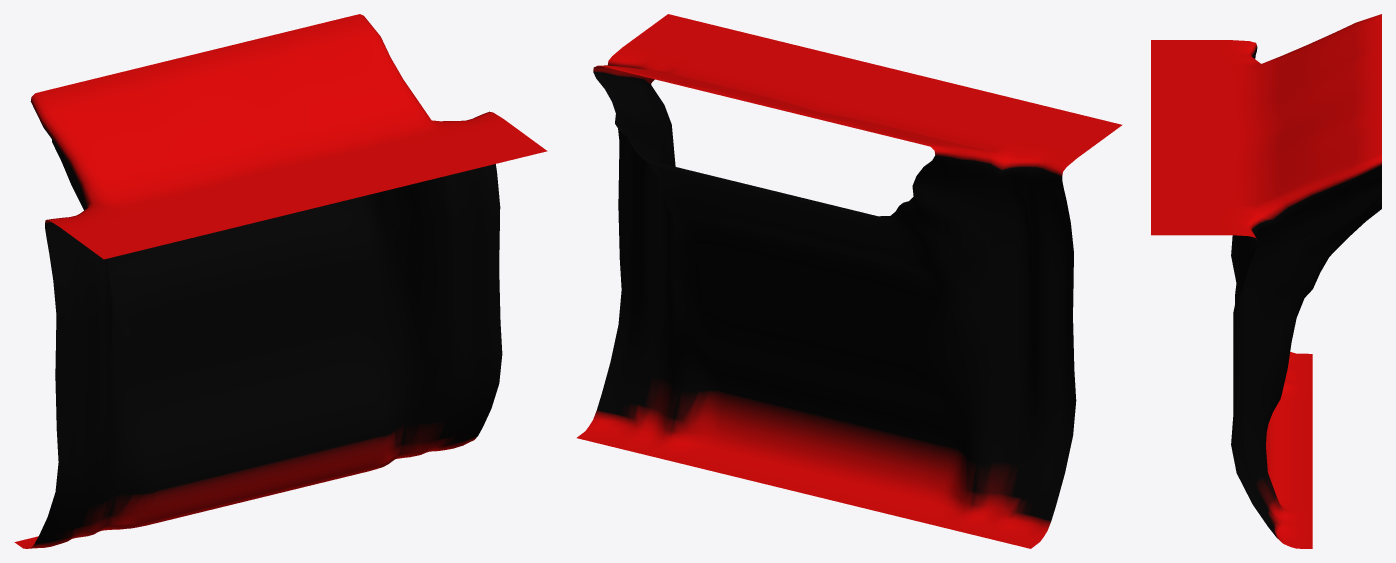
Rendered from CrossingCliff02B 3M Foreground.fbx.
3 renders of one model, left to right at view 1: azimuth 30°, elevation 25°; view 2: azimuth 150°, elevation 25°; view 3: azimuth 270°, elevation 25°, orthographic. The views are drawn at different scales.
Visible parts, largest first — view 1: CrossingCliff02B 3M Foreground; view 2: CrossingCliff02B 3M Foreground; view 3: CrossingCliff02B 3M Foreground.
Part boxes in pixels (bbox=[...]): CrossingCliff02B 3M Foreground: bbox=[14, 14, 547, 548]; CrossingCliff02B 3M Foreground: bbox=[577, 14, 1121, 548]; CrossingCliff02B 3M Foreground: bbox=[1151, 14, 1381, 548].
Size of the model in its own units: 4 by 3.5 by 2.
